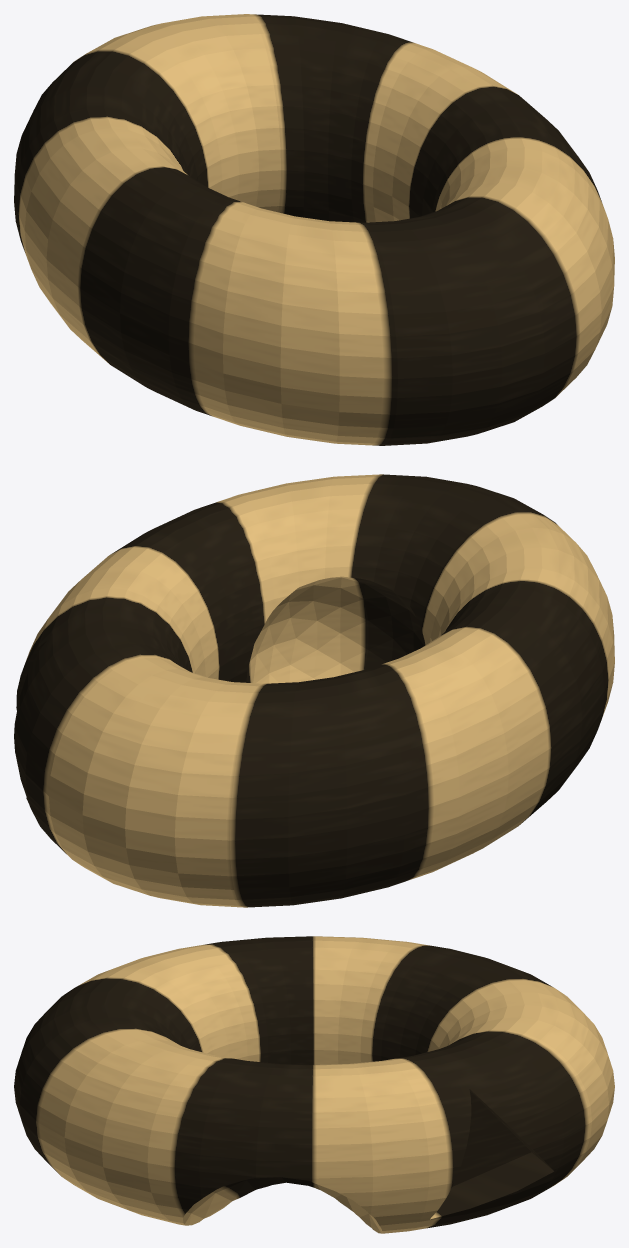
3 renders of one model, top to bottom at view 1: azimuth 30°, elevation 25°; view 2: azimuth 150°, elevation 25°; view 3: azimuth 270°, elevation 25°, orthographic. The views are drawn at different scales.
Parts seen in each view (by area): view 1: geometry_0; view 2: geometry_0; view 3: geometry_0.
Boxes of the visible parts, <box> form: geometry_0: <box>14,14,614,445</box>; geometry_0: <box>14,474,614,907</box>; geometry_0: <box>14,936,614,1233</box>.
Size of the model in its own units: 1.95 by 0.8098 by 2.7.
1 material, 1 textured.
